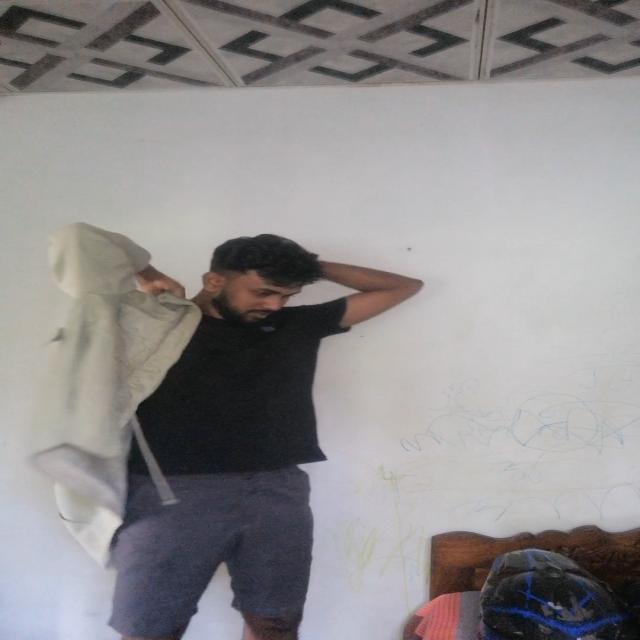Jacket_Wearer: (58, 222, 409, 640)
